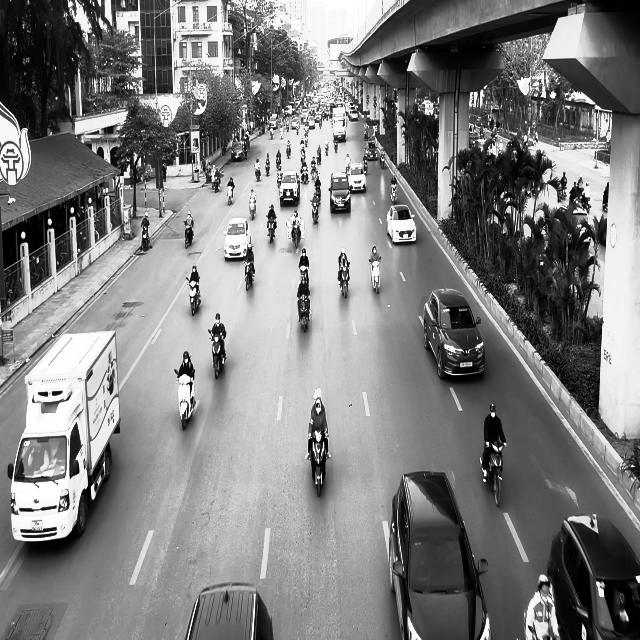car: (388, 470, 492, 639), (546, 512, 640, 639), (423, 288, 485, 380), (184, 582, 274, 639), (386, 204, 417, 244), (223, 217, 251, 260), (328, 171, 351, 213), (279, 170, 300, 206), (347, 162, 366, 192), (231, 141, 245, 161)
motorbike: (479, 440, 506, 507), (174, 368, 197, 430), (309, 428, 327, 496), (208, 330, 226, 380), (186, 276, 202, 315), (297, 294, 311, 332), (369, 258, 381, 294), (338, 263, 350, 298), (244, 260, 255, 291), (183, 220, 194, 248), (266, 215, 276, 243), (310, 197, 320, 224), (141, 225, 151, 251), (291, 223, 301, 248), (249, 196, 256, 219), (390, 182, 397, 204), (227, 184, 234, 205), (379, 150, 385, 168), (363, 155, 368, 174)
truck: (7, 330, 121, 544)
